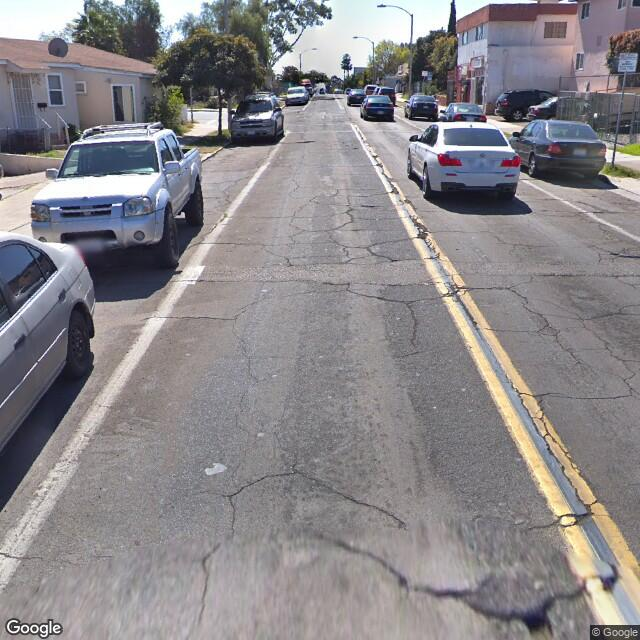road line: (406, 239, 552, 451)
window: (41, 66, 69, 109), (542, 22, 571, 42)
